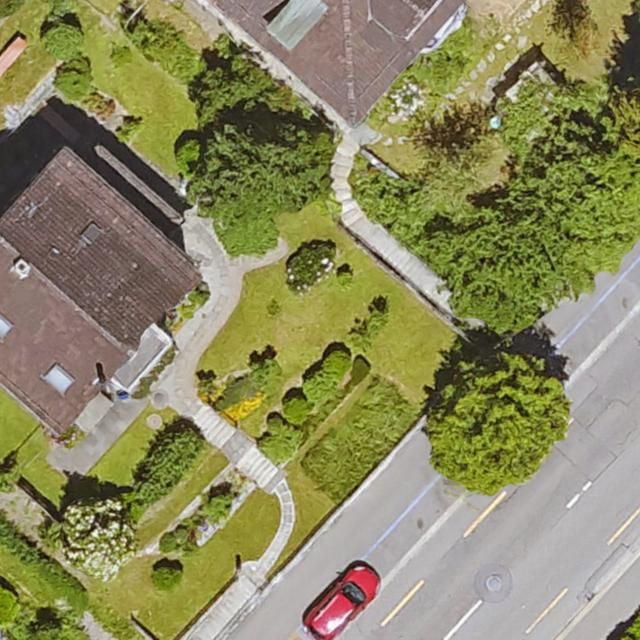tree: (515, 126, 640, 290), (427, 352, 566, 488), (186, 122, 333, 234), (450, 223, 545, 320), (59, 499, 133, 576), (195, 56, 267, 121), (603, 73, 640, 157), (430, 133, 485, 184), (551, 0, 595, 46), (151, 564, 183, 592)
